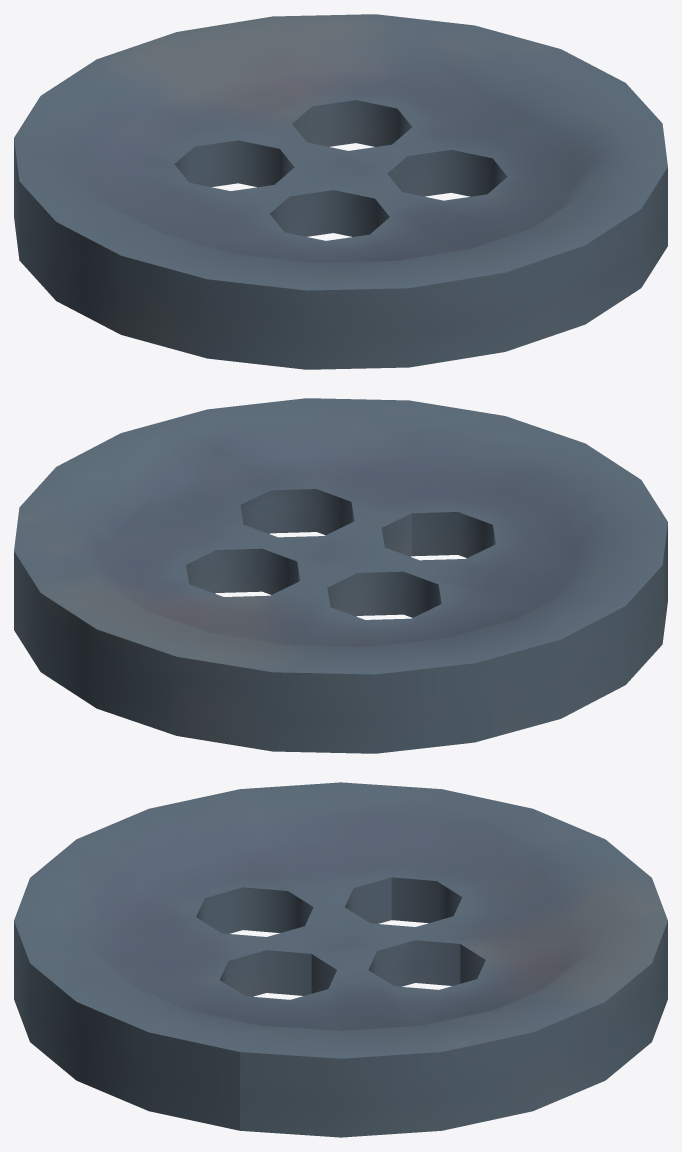
File: SM_Farm_Button_01.fbx
The picture shows the model from 3 angles, top to bottom: view 1: azimuth 30°, elevation 25°; view 2: azimuth 150°, elevation 25°; view 3: azimuth 270°, elevation 25°; orthographic projection.
Parts seen in each view (by area): view 1: SM_Farm_Button_01_LOD0; view 2: SM_Farm_Button_01_LOD0; view 3: SM_Farm_Button_01_LOD0.
Part boxes in pixels (<box>): SM_Farm_Button_01_LOD0: <box>14,14,667,369</box>; SM_Farm_Button_01_LOD0: <box>14,398,667,753</box>; SM_Farm_Button_01_LOD0: <box>14,782,667,1137</box>.
Size of the model in its own units: 5.88 by 0.7813 by 5.88.
